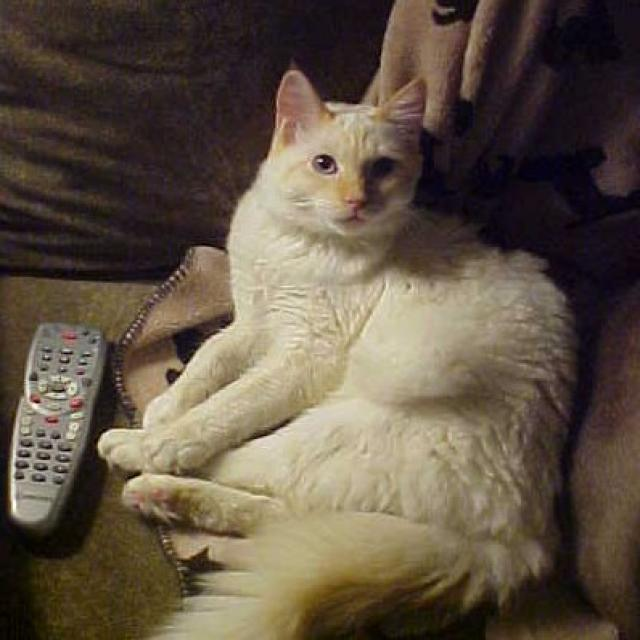Cats: (95, 59, 580, 638)
